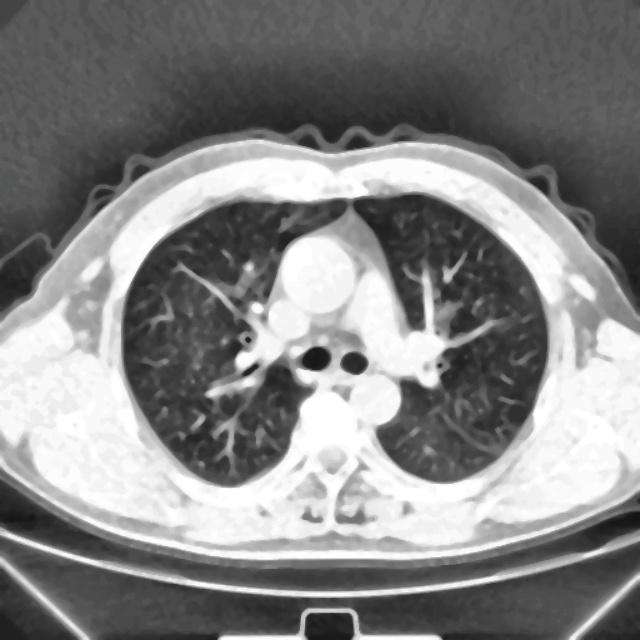covid: (0, 123, 639, 573)
